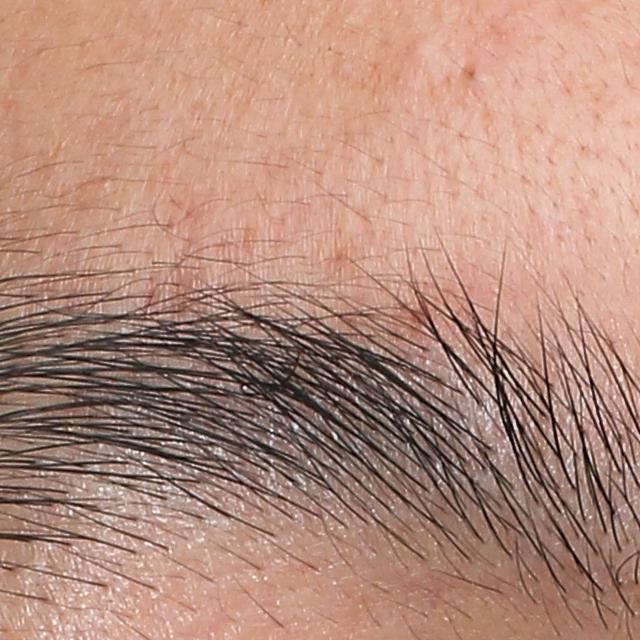comedo: (397, 35, 440, 74), (463, 61, 488, 87)
